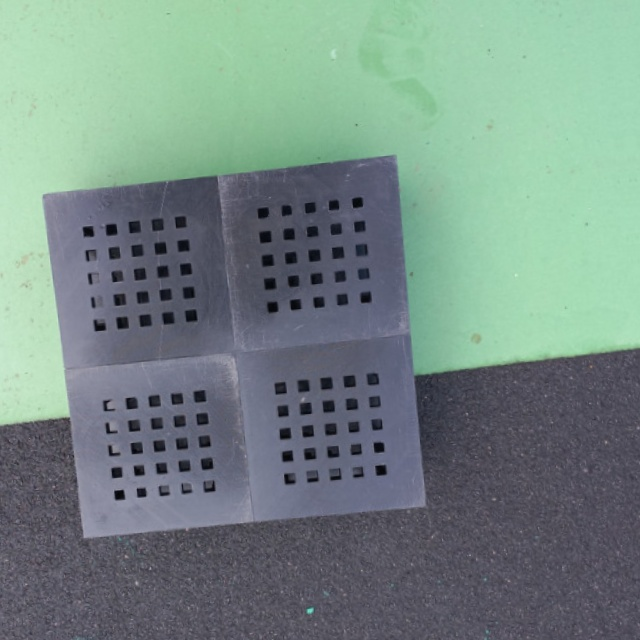pallet: (32, 147, 429, 551)
